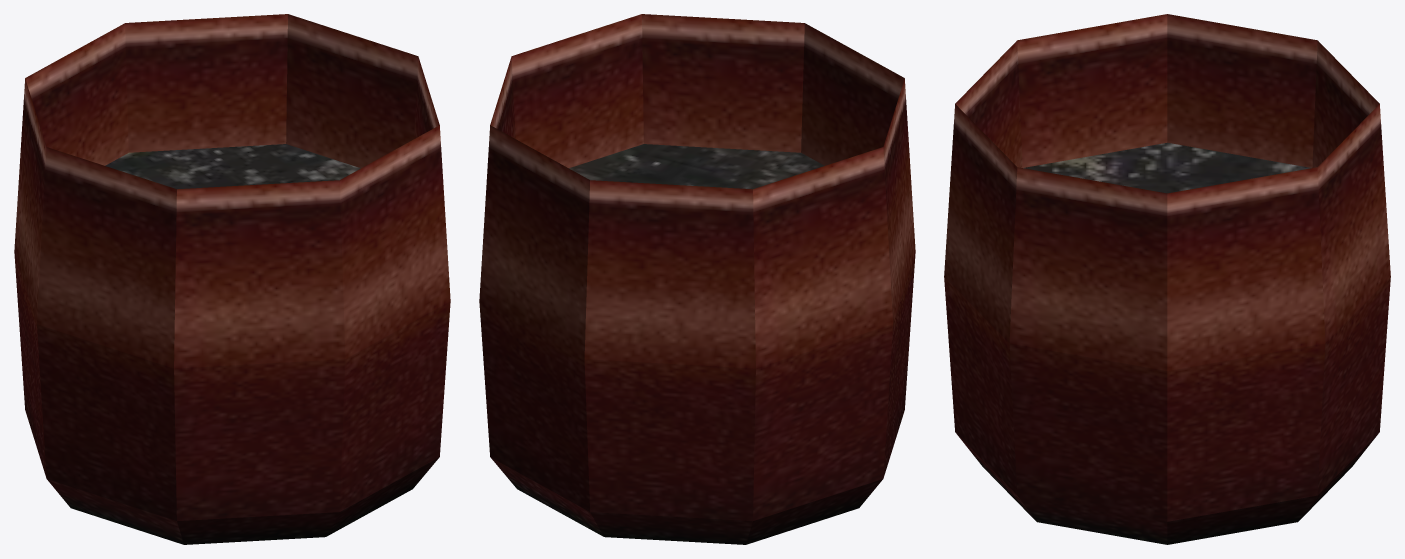
File: ITMI_PITCH.glb
3 views of the same model, side by side, from view 1: azimuth 30°, elevation 25°; view 2: azimuth 150°, elevation 25°; view 3: azimuth 270°, elevation 25° (orthographic).
Parts seen in each view (by area): view 1: ITMI_PITCH; view 2: ITMI_PITCH; view 3: ITMI_PITCH.
Part boxes in pixels (x1,y1,x2,y2): ITMI_PITCH: [14, 14, 450, 544]; ITMI_PITCH: [479, 14, 915, 544]; ITMI_PITCH: [944, 14, 1390, 544].
Size of the model in its own units: 0.2357 by 0.2114 by 0.2357.
2 materials, 2 textured.
